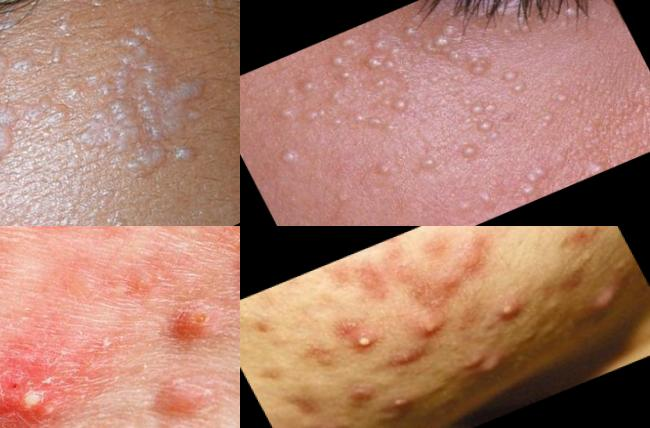cystic: (144, 346, 236, 428), (454, 341, 513, 387), (588, 286, 629, 319)
milium: (402, 1, 500, 89), (323, 25, 404, 91), (503, 155, 562, 205), (488, 55, 540, 105), (519, 96, 572, 143), (463, 90, 510, 140), (451, 46, 500, 89), (375, 81, 425, 122), (302, 96, 349, 139), (348, 102, 391, 141), (365, 153, 406, 187), (450, 137, 488, 169), (410, 151, 447, 183), (466, 183, 503, 215), (289, 69, 324, 102), (576, 151, 615, 180), (362, 71, 399, 101), (276, 142, 308, 172), (272, 101, 304, 130), (389, 62, 419, 90), (559, 1, 589, 27), (548, 88, 575, 113)
papular: (484, 289, 533, 332), (343, 379, 377, 408)
purulent: (407, 303, 457, 347), (342, 324, 387, 362), (387, 390, 417, 417)
sebo-crystan-conglo: (1, 325, 86, 428)
syringoma: (31, 5, 241, 208), (10, 1, 227, 60), (1, 36, 60, 223)
